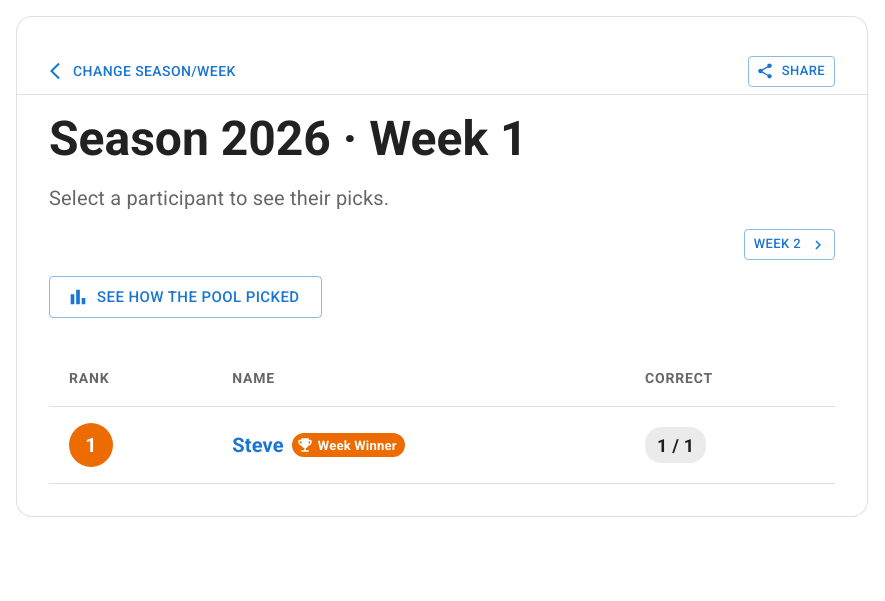
Scenario: the home page remembers the week you were looking at › shows the remembered week's player count and pot, not the default week's
Click the link "Change season/week".
click(140, 71)  # box [45,61,236,81]
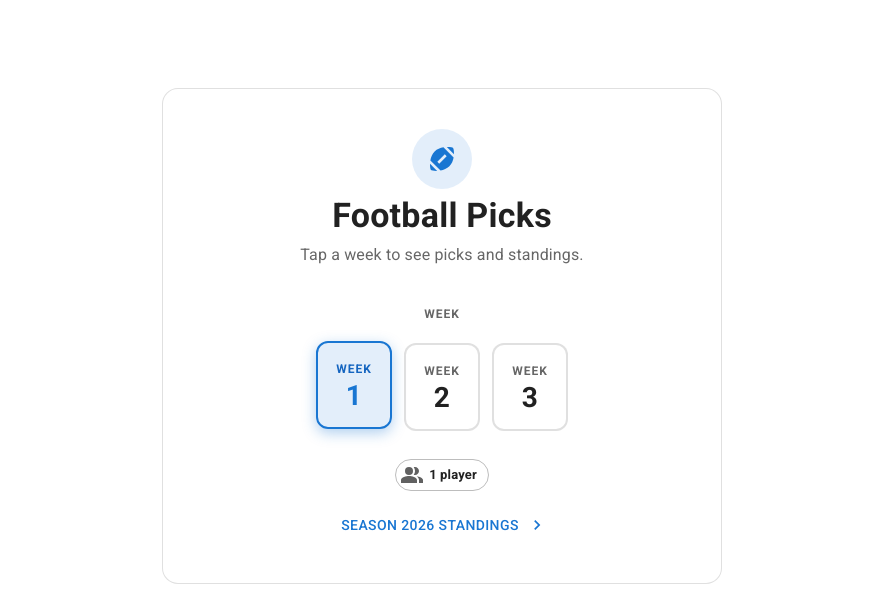
Now the text "1 player" is shown, box [429,467,477,482]
